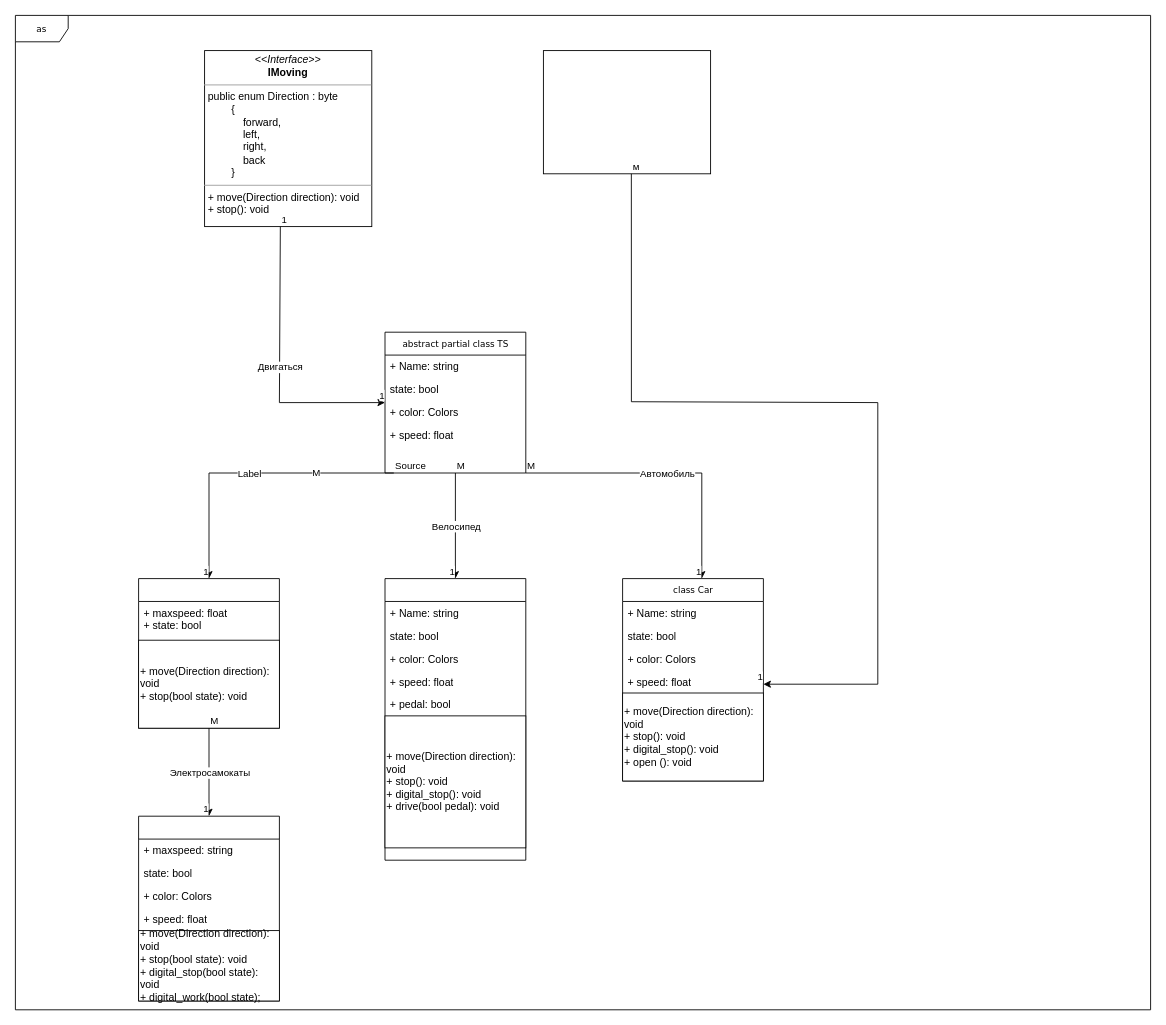
Image size: 1166x1025. Some labels were removed from this diagram. Each missing label, with the box of its shape:
<<Interface>> IDigitals + digital_work(): void + digital_stop(): void: (543, 50, 711, 174)
class Bicycle: (384, 578, 526, 860)
class Electic_scooter: (138, 815, 279, 1001)
class Scooter: (138, 578, 279, 728)
